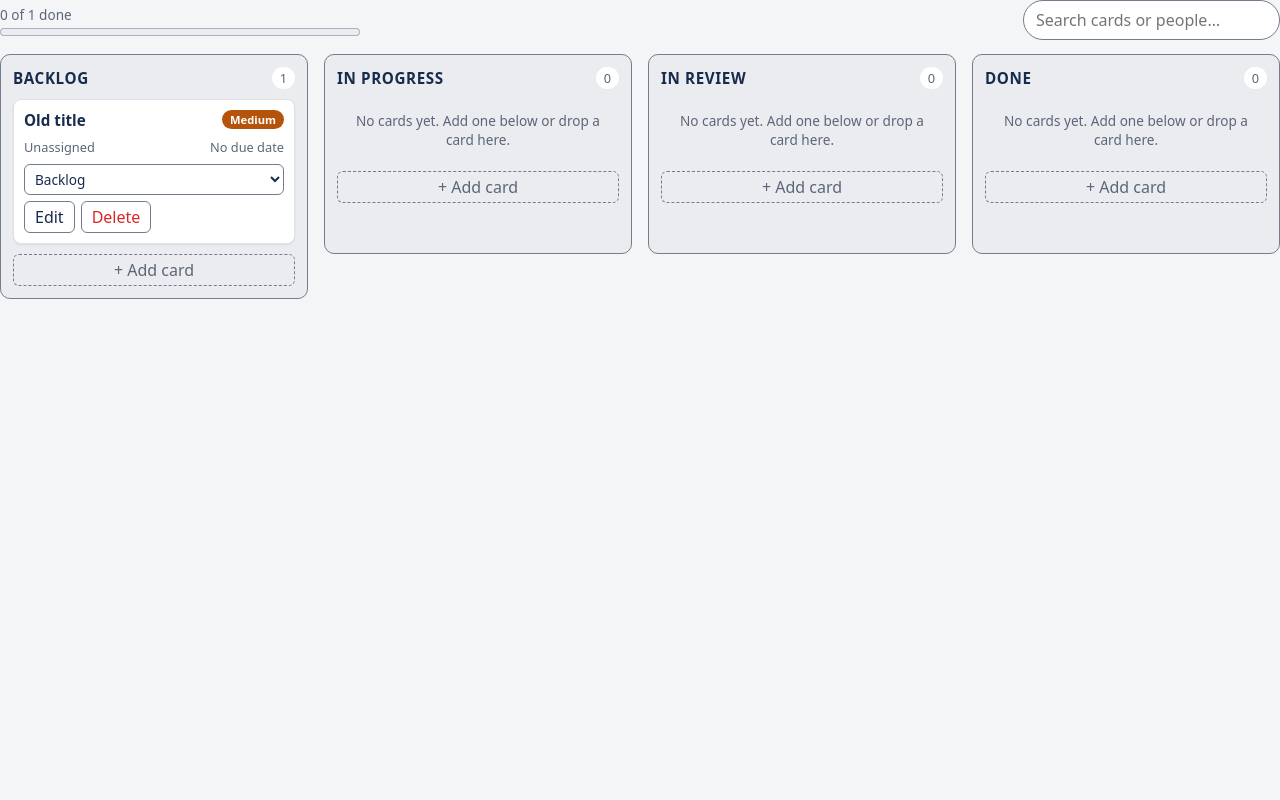
Test: editing a card › updates the card and confirms with a toast
This screenshot has width=1280, height=800.
Click the button with aria-label "Edit “Old title”". click: (49, 217)
box: [24,201,75,233]
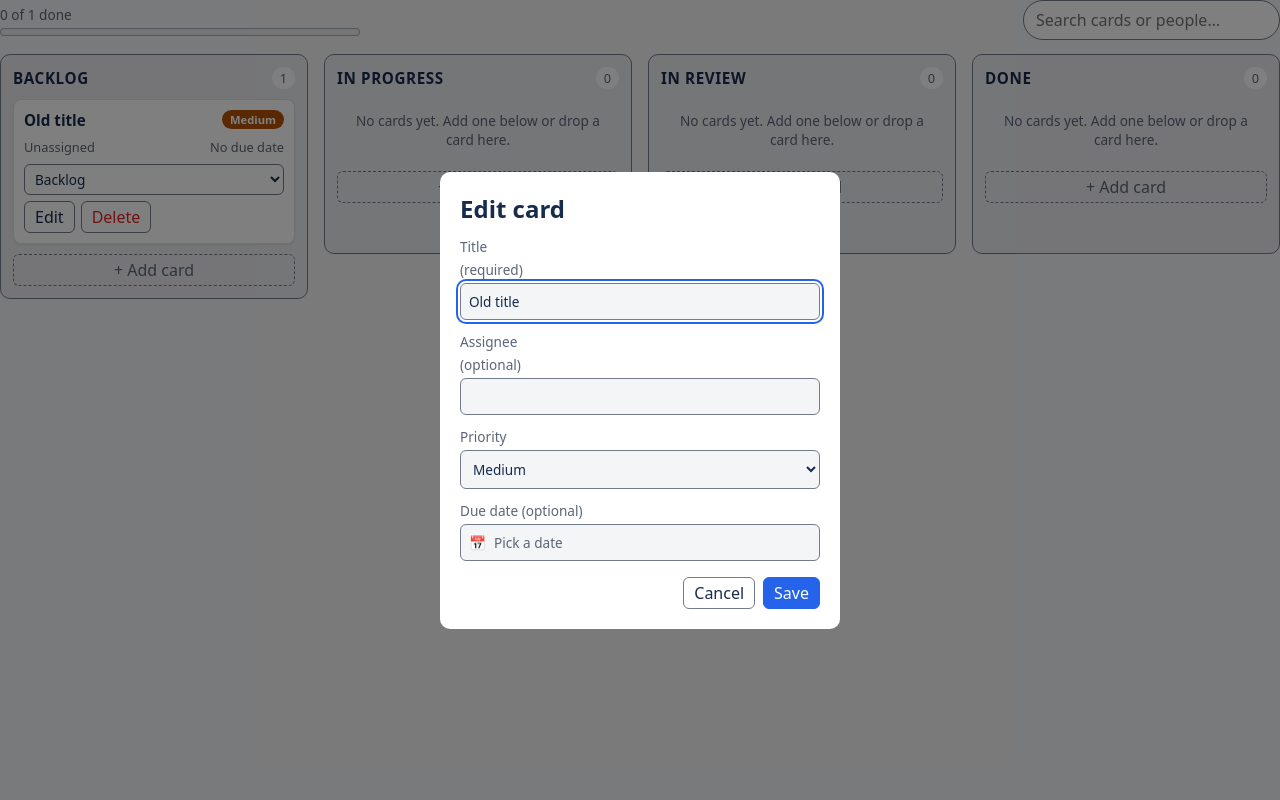
Replace the text in the field labelled "Title (required)" with "New title". click: (640, 301)
box: [460,282,820,320]
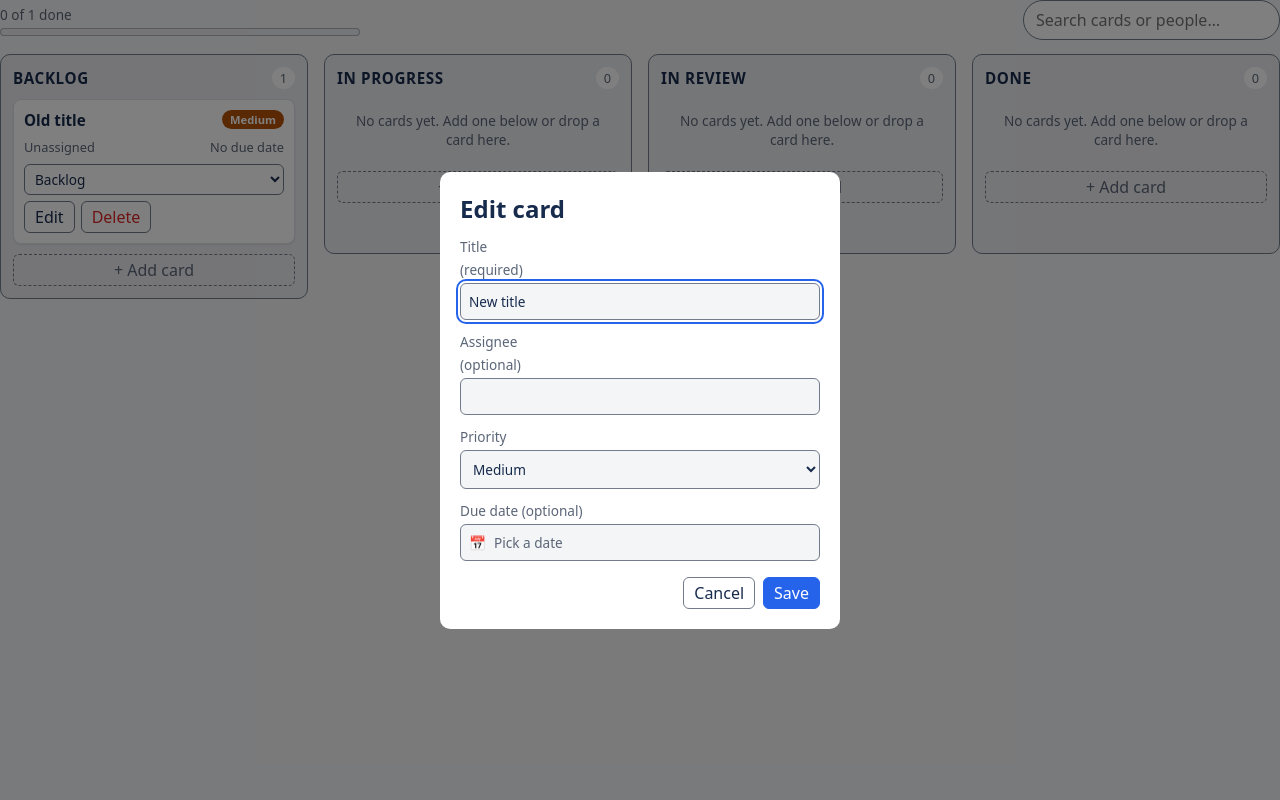
Click the button "Save". click: (792, 592)
box: [763,576,820,608]
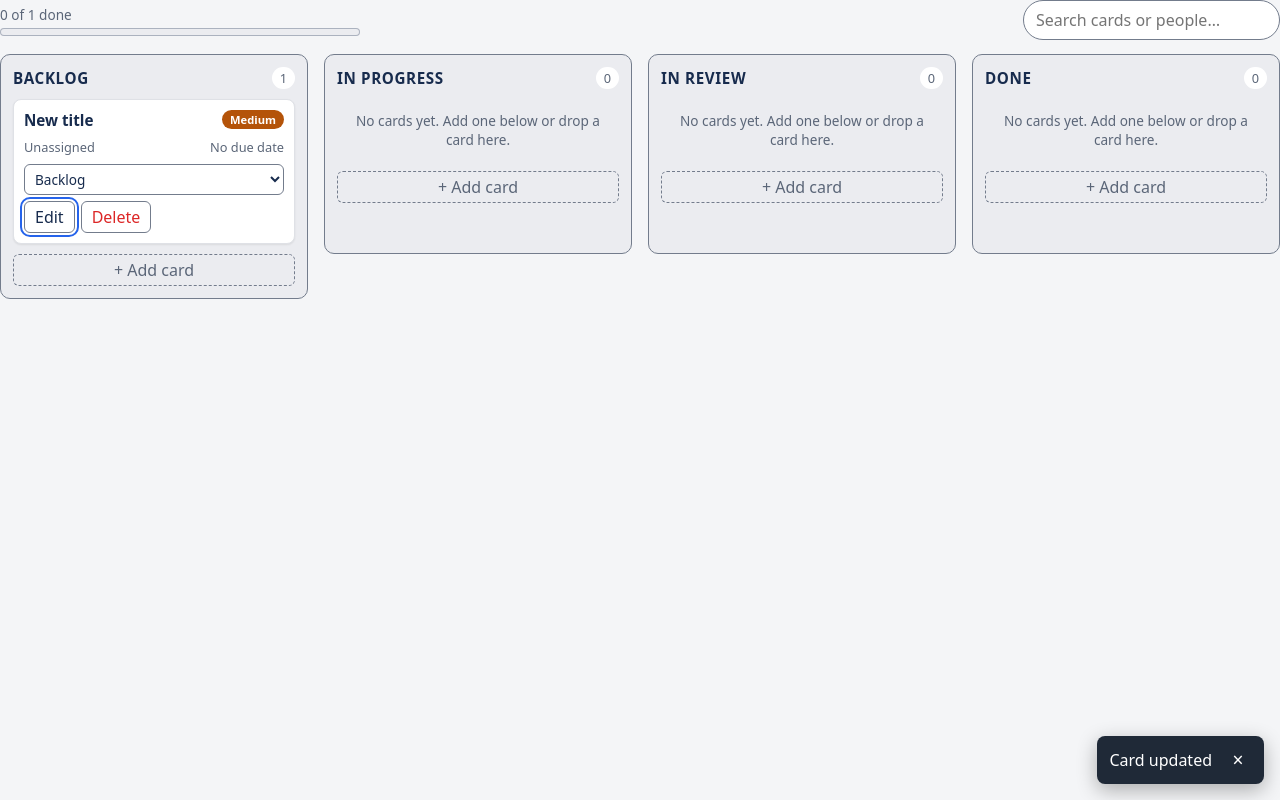
Expected: the heading "New title" is shown, [24,110,93,130]
Expected: the heading "Old title" is gone
Expected: the text "Card updated" is shown, [1109,749,1212,771]
